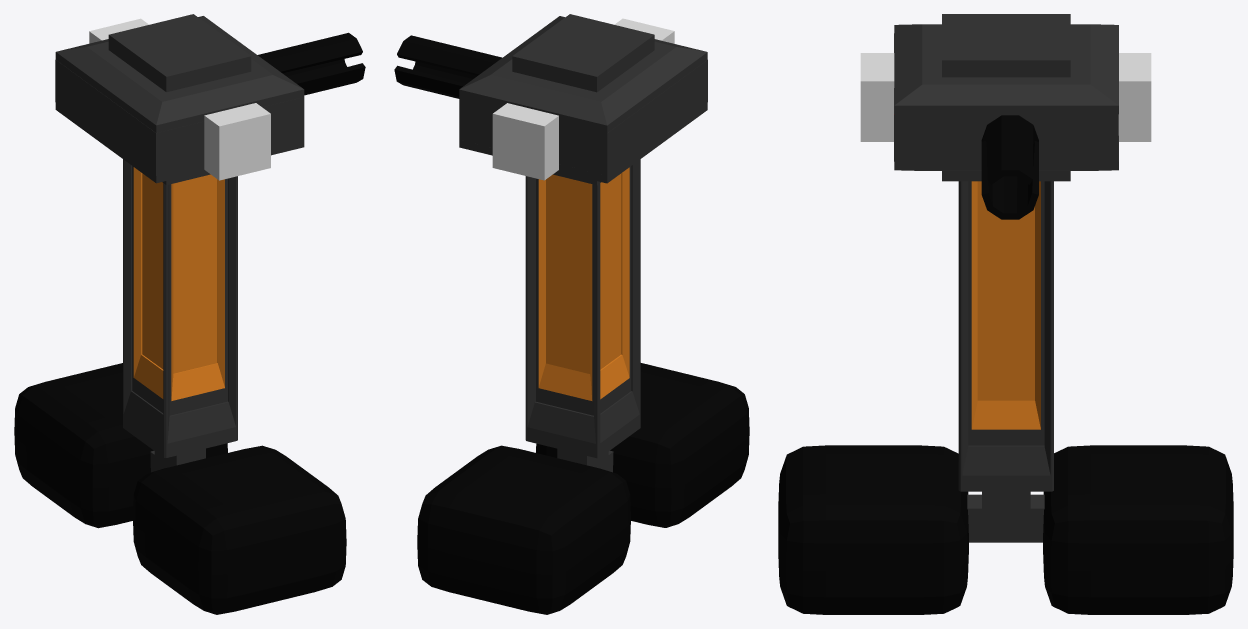
The model's file is SecurityRBot.fbx.
The picture shows the model from 3 angles, left to right: view 1: azimuth 30°, elevation 25°; view 2: azimuth 150°, elevation 25°; view 3: azimuth 270°, elevation 25°; orthographic projection. The views are drawn at different scales.
Visible parts, largest first — view 1: RailGun, Body, Wheels, Wheels.001; view 2: RailGun, Body, Wheels.001, Wheels; view 3: RailGun, Wheels, Wheels.001, Body, Cube.
Part boxes in pixels (x1,y1,x2,y2): RailGun: (55, 14, 365, 185); Body: (123, 159, 237, 467); Wheels: (133, 445, 346, 614); Wheels.001: (14, 363, 227, 528); RailGun: (394, 14, 707, 185); Body: (525, 159, 640, 466); Wheels.001: (417, 445, 630, 614); Wheels: (536, 363, 749, 527); RailGun: (860, 14, 1151, 219); Wheels: (778, 445, 968, 614); Wheels.001: (1043, 445, 1233, 614); Body: (958, 181, 1053, 509); Cube: (967, 494, 1044, 542).
Bounding box in the file's own units: 168 × 318 × 239.
